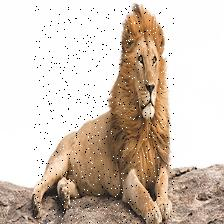Lion: (35, 6, 175, 224)
